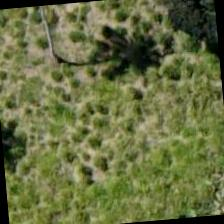Kelapa_Sawit: (4, 5, 102, 103)
